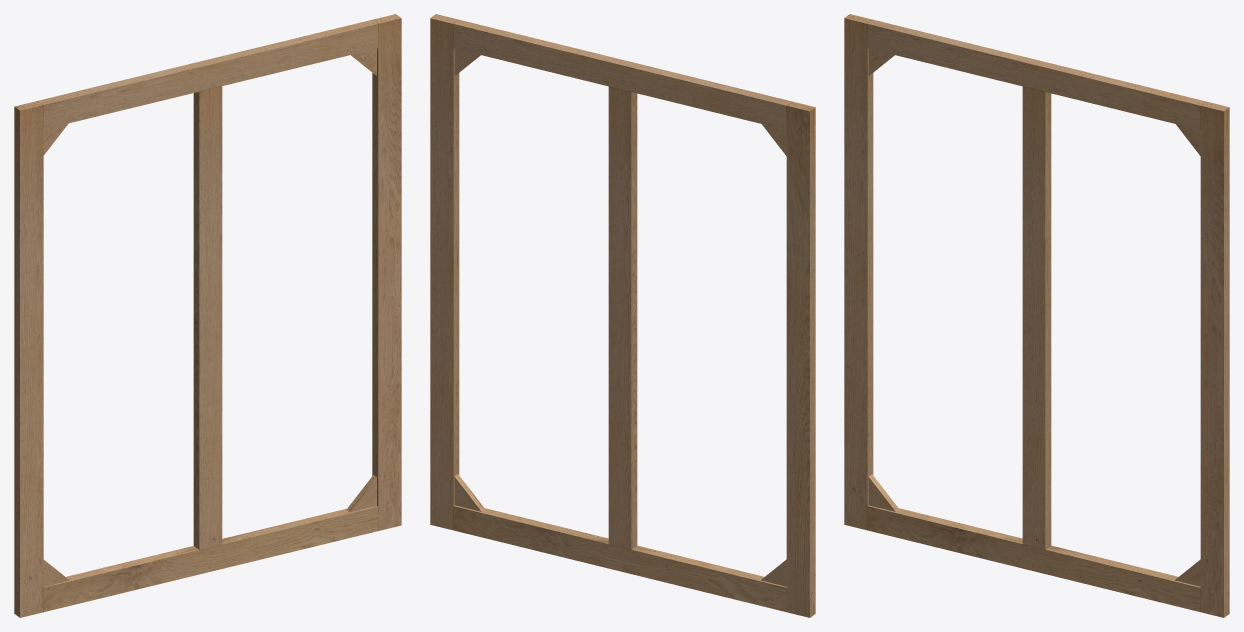
Rendered from CanvasFrame_SM.fbx.
3 views of the same model, side by side, from view 1: azimuth 30°, elevation 25°; view 2: azimuth 150°, elevation 25°; view 3: azimuth 330°, elevation 25° (orthographic).
Parts seen in each view (by area): view 1: CanvasFrame_SM; view 2: CanvasFrame_SM; view 3: CanvasFrame_SM.
Boxes of the visible parts, bbox=[...] form: CanvasFrame_SM: bbox=[14, 14, 401, 617]; CanvasFrame_SM: bbox=[430, 14, 815, 617]; CanvasFrame_SM: bbox=[844, 14, 1229, 617].
Bounding box in the file's own units: 76.49 × 97.34 × 2.21.
